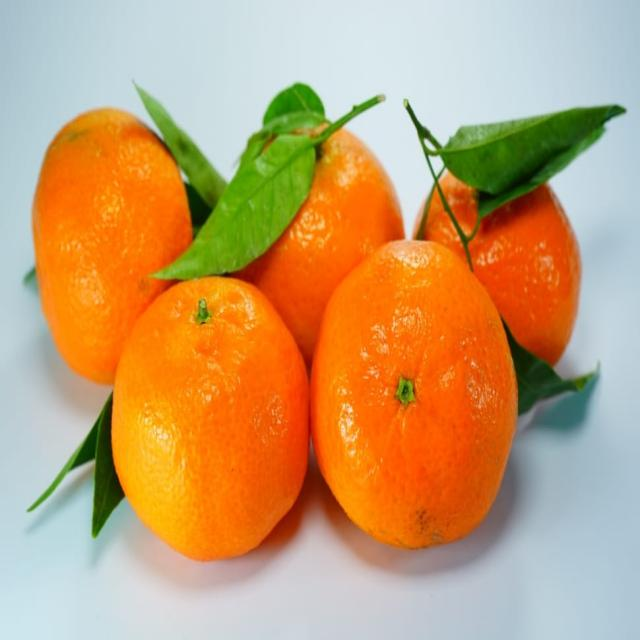orange: (306, 242, 512, 548), (108, 302, 302, 559), (34, 106, 188, 302)
